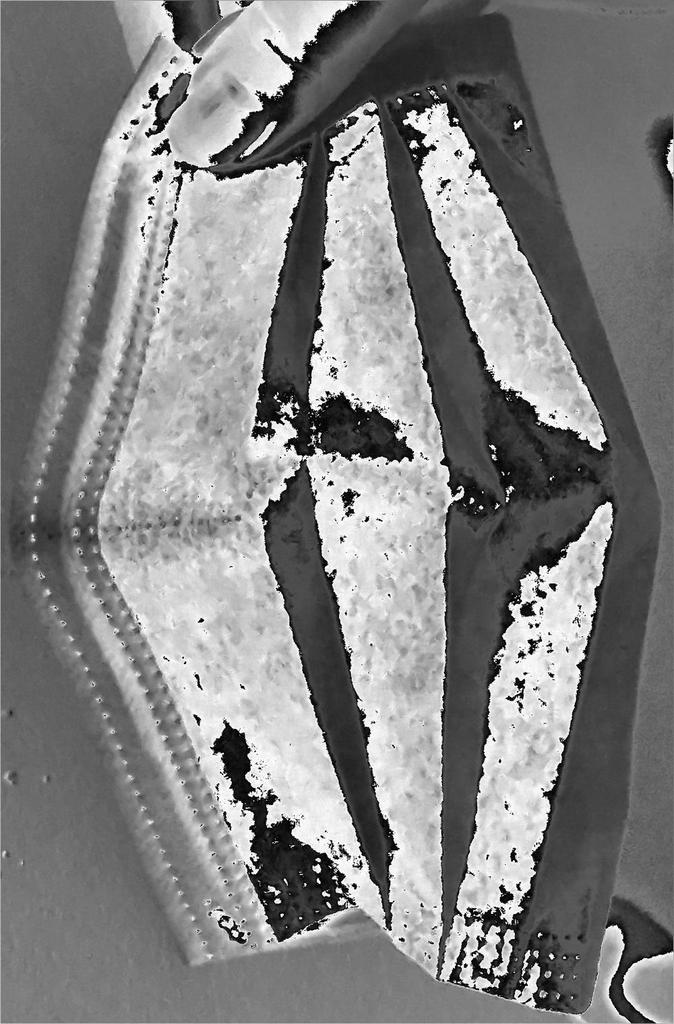High GSM: (139, 176, 620, 911)
